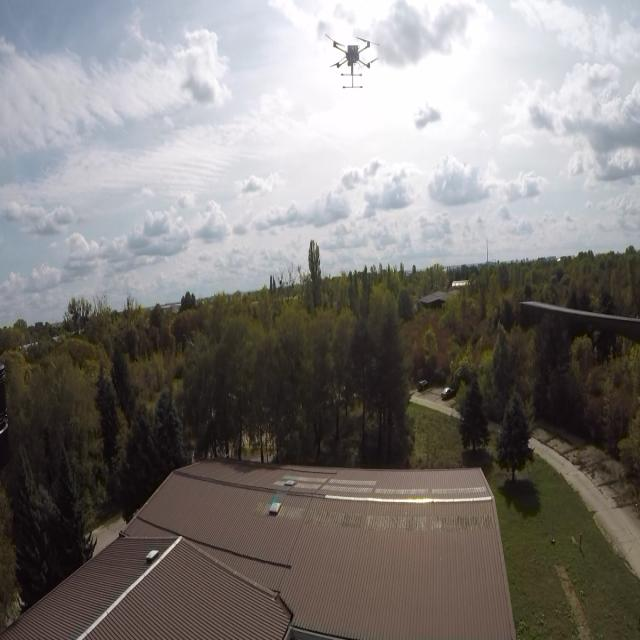UAV: (318, 30, 384, 94)
